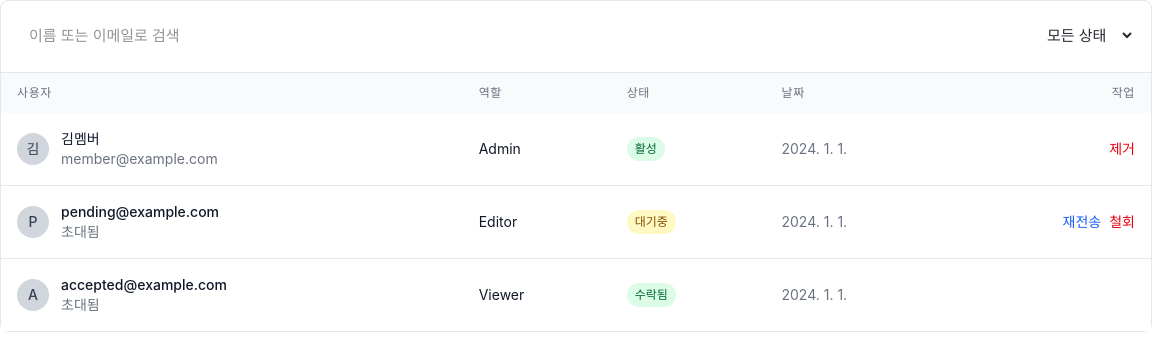
Test: TeamMemberTable › 검색 기능이 작동해야 함
Type "pending" into the field with placeholder "이름 또는 이메일로 검색". click: point(516, 36)
box: [17,17,1015,56]
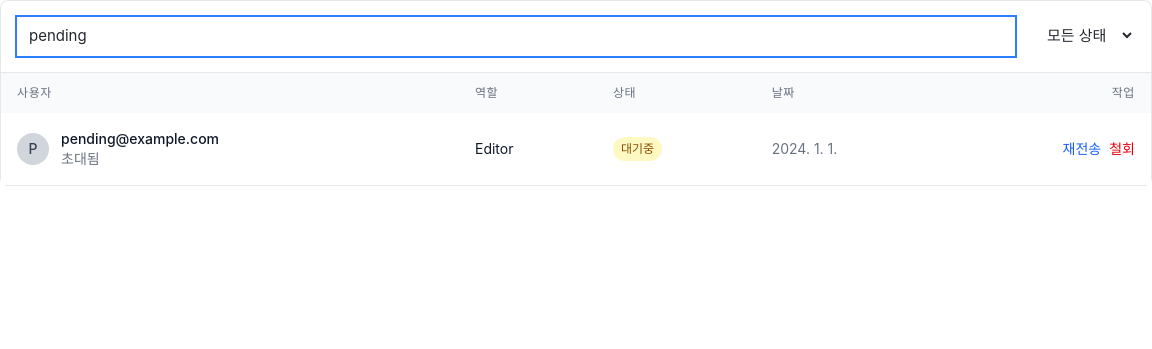
Expected: the text "pending@example.com" is shown, [61,128,219,148]
Expected: the text "accepted@example.com" is gone
